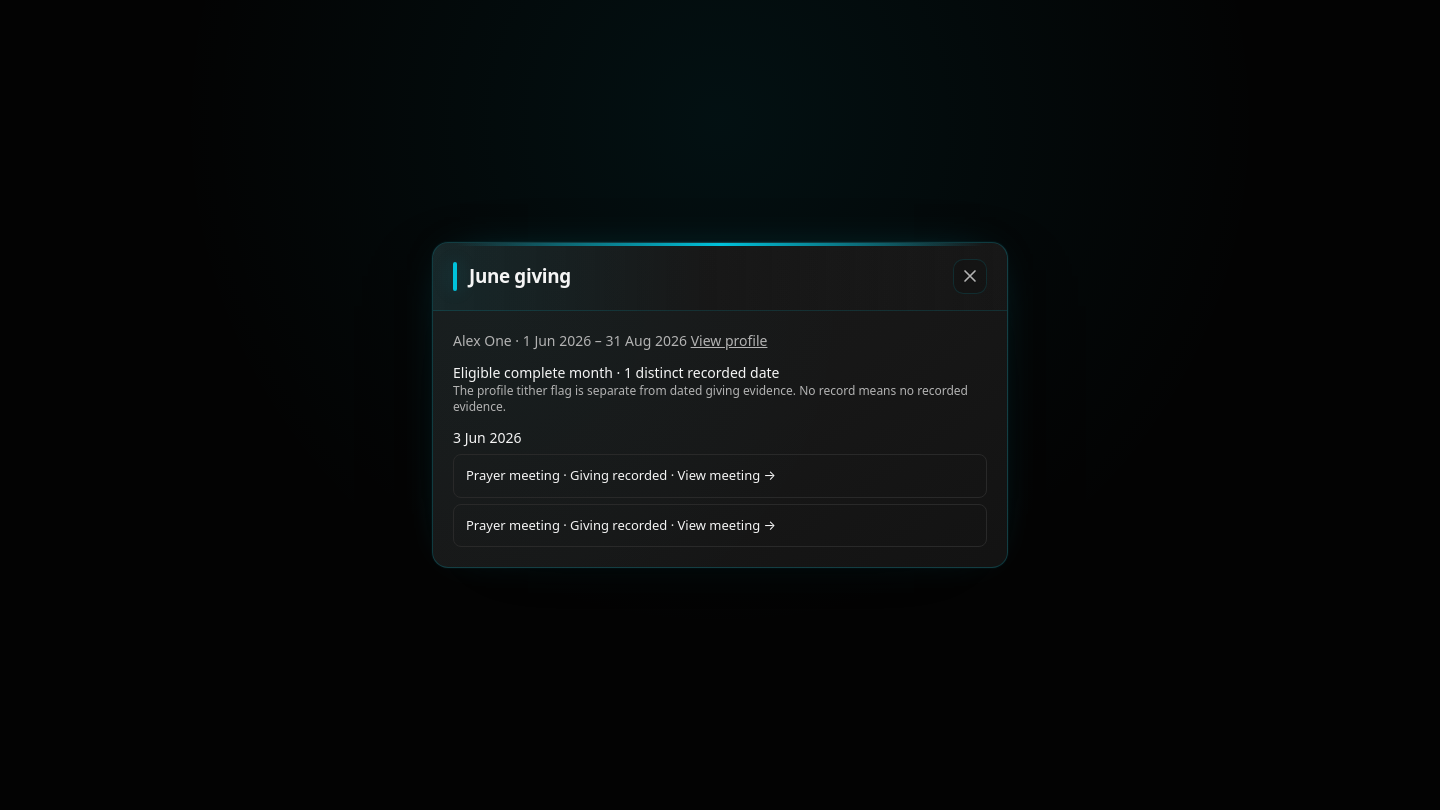
keeps two same-date giving events under one date and labels the event as giving
This screenshot has width=1440, height=810.
Check: the dialog shows "1 distinct recorded date", box [453, 364, 780, 382]
Click the 2nd button "Prayer meeting · Giving recorded · View meeting →": (720, 526) [453, 504, 987, 548]
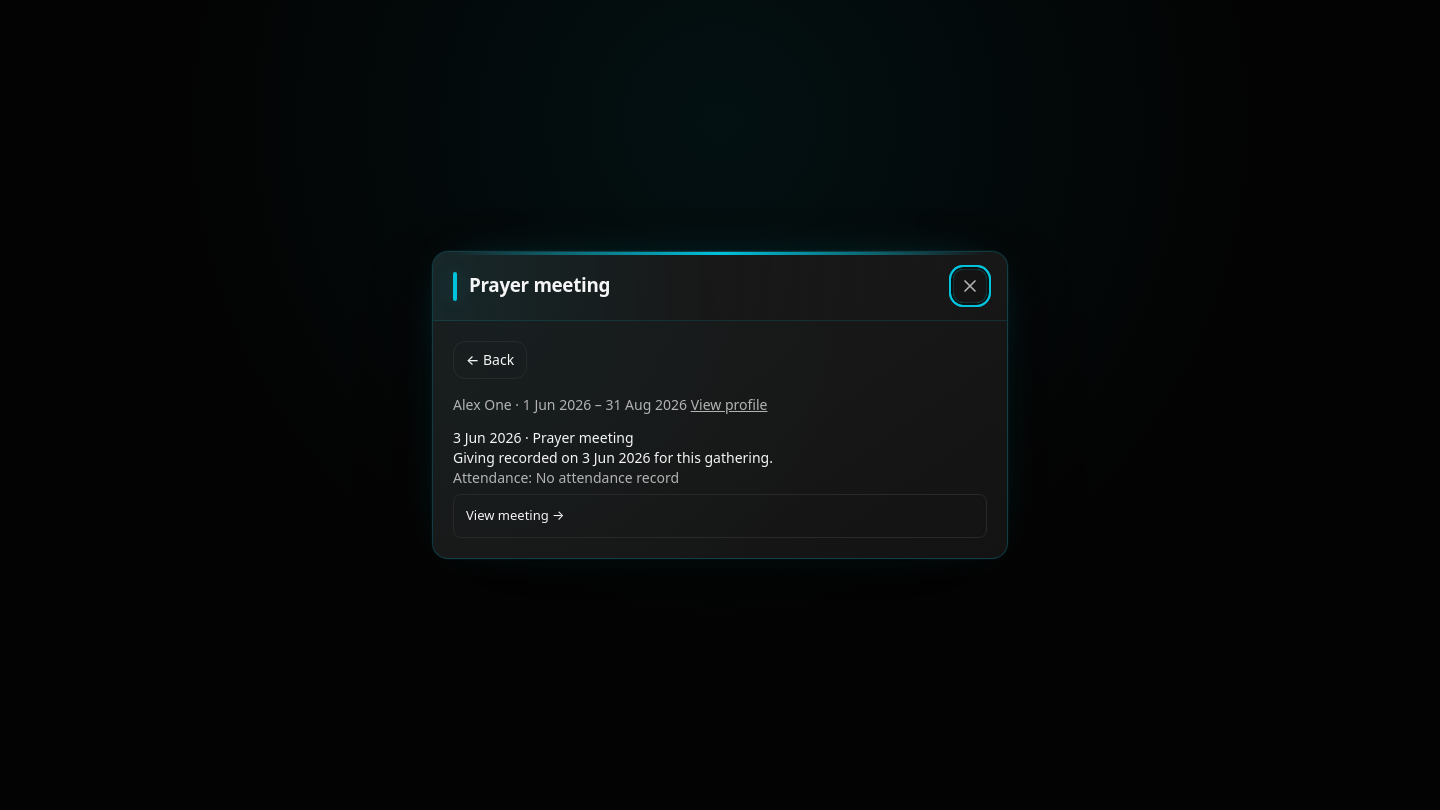
Check: the dialog shows "Giving recorded on 3 Jun 2026", box [453, 448, 773, 467]
Check: the dialog shows "Attendance: No attendance record", box [453, 468, 679, 487]
